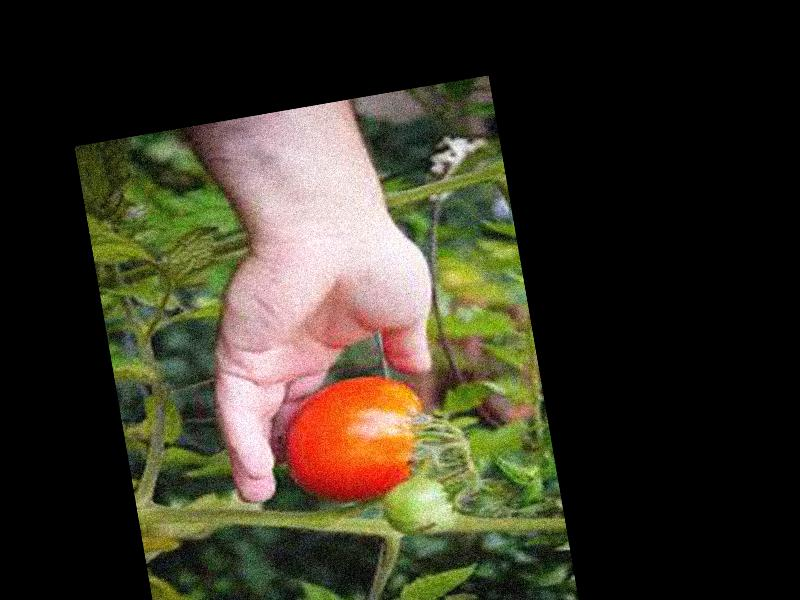Tomato: (276, 366, 440, 514)
